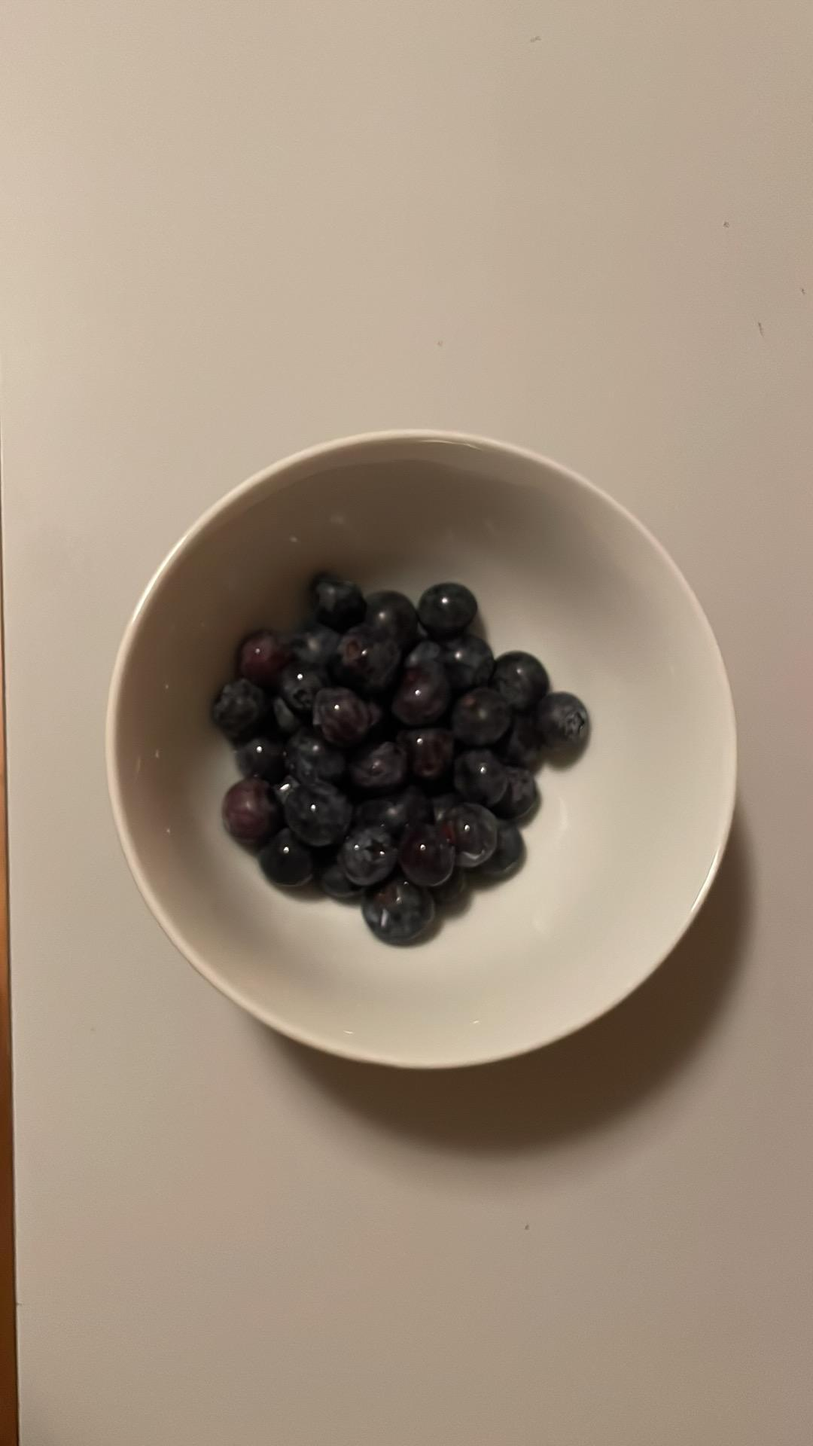blueberry: (334, 627, 409, 697), (285, 782, 355, 853), (282, 782, 354, 849), (373, 878, 438, 944), (306, 682, 370, 741), (279, 624, 352, 674), (223, 779, 277, 845), (265, 830, 324, 889), (399, 822, 454, 885), (494, 650, 550, 711), (310, 567, 365, 629), (456, 687, 514, 745), (445, 804, 498, 867), (345, 735, 409, 787), (417, 581, 477, 635), (537, 691, 593, 747), (211, 680, 269, 734), (358, 591, 418, 643), (395, 667, 453, 720), (287, 732, 346, 784), (359, 791, 422, 838), (455, 748, 505, 807), (235, 628, 288, 680), (398, 728, 448, 782), (440, 636, 495, 685), (344, 824, 385, 889), (238, 729, 289, 781), (502, 762, 545, 822), (282, 667, 330, 716), (490, 825, 527, 882)
